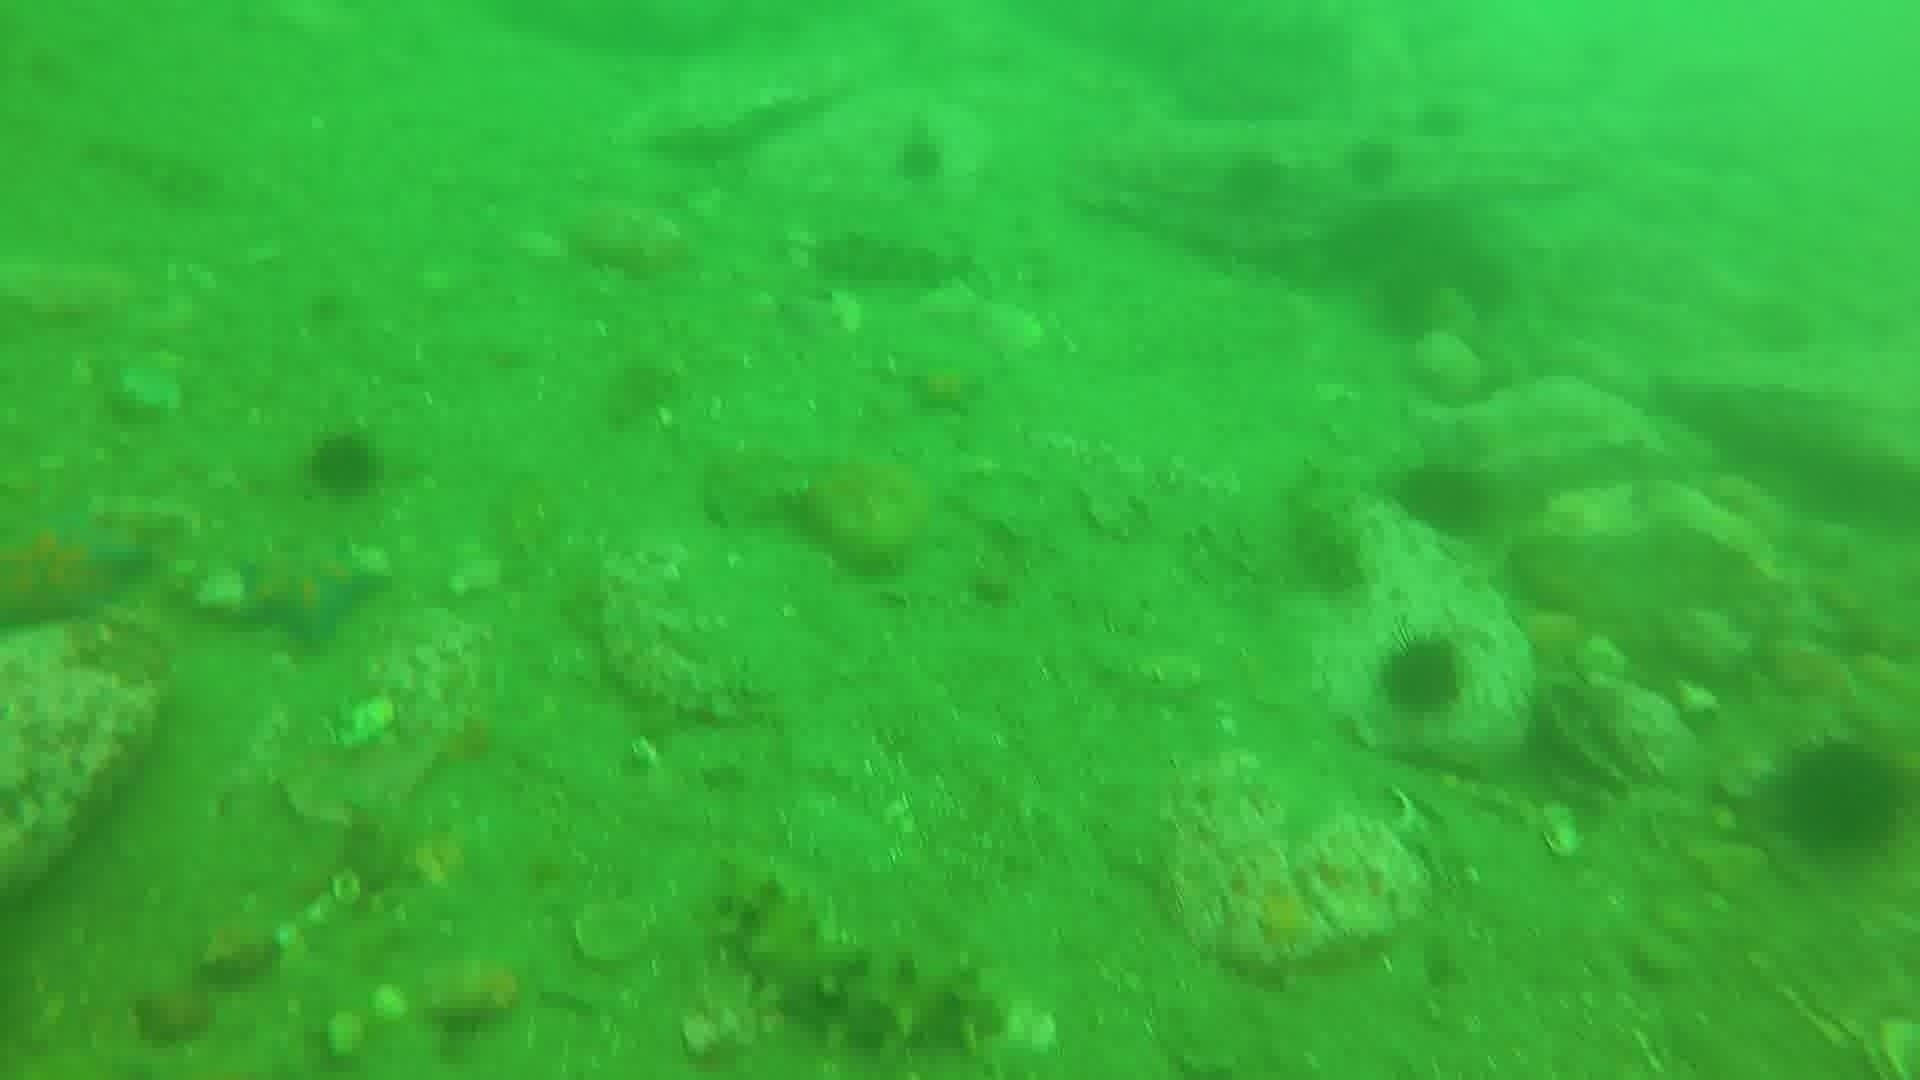echinus: (1770, 736, 1909, 864), (1389, 458, 1495, 542), (1373, 632, 1472, 723), (1364, 260, 1451, 345), (302, 429, 386, 502), (1212, 148, 1292, 222), (1338, 135, 1404, 194), (889, 131, 949, 189), (1414, 102, 1474, 144)
holothurian: (707, 855, 1013, 1062), (1276, 462, 1374, 601), (808, 223, 967, 297), (82, 128, 224, 206)
starfish: (1, 498, 154, 640), (229, 539, 390, 653), (895, 349, 992, 419)
